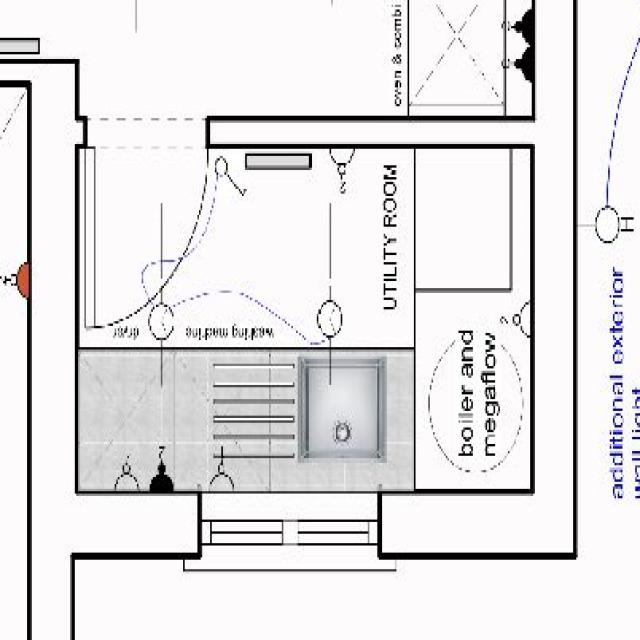Doors: (84, 133, 213, 339)
